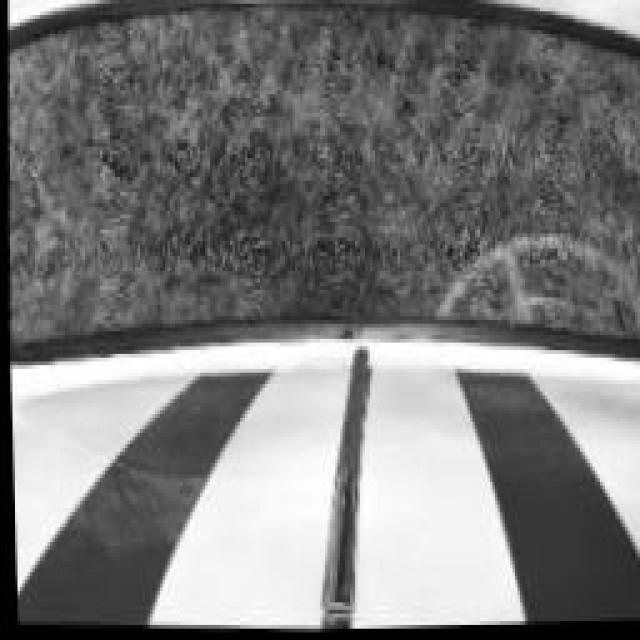Windshield: (0, 4, 640, 356)
